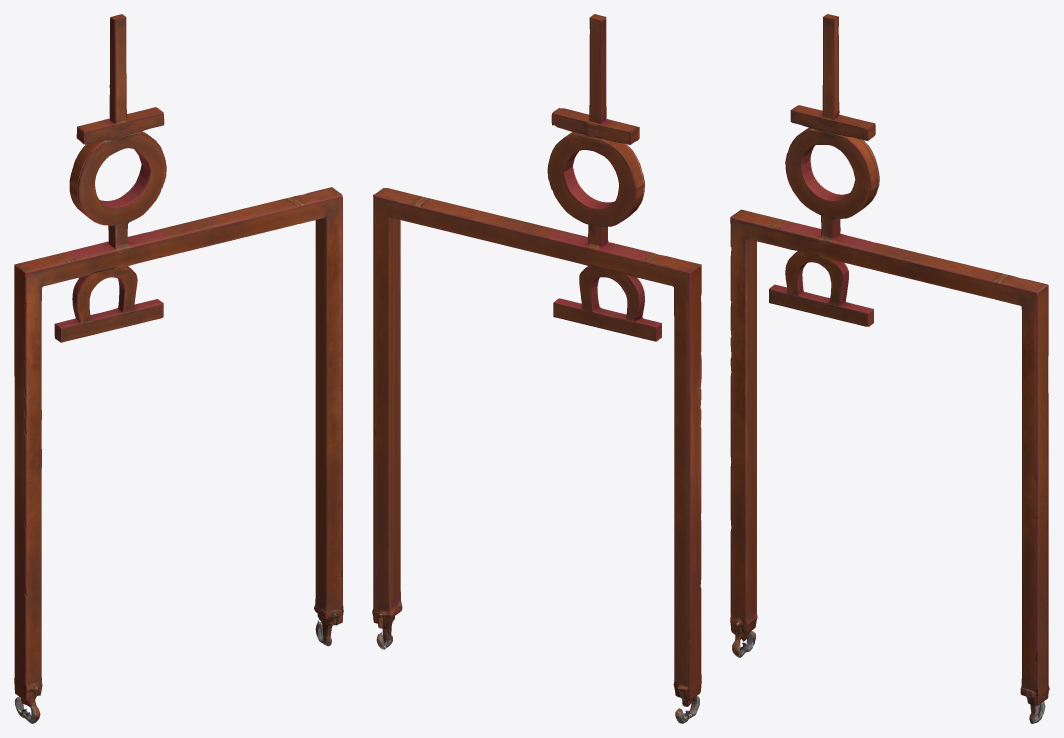
File: Hongik_structure.fbx
3 views of the same model, side by side, from view 1: azimuth 30°, elevation 25°; view 2: azimuth 150°, elevation 25°; view 3: azimuth 330°, elevation 25° (orthographic). The views are drawn at different scales.
Parts seen in each view (by area): view 1: temp; view 2: temp; view 3: temp.
Part boxes in pixels (<box>): temp: <box>14,14,343,723</box>; temp: <box>372,14,701,723</box>; temp: <box>730,14,1049,723</box>.
Size of the model in its own units: 97.65 by 200 by 11.05.
Materials: 1 (1 with a texture image).
